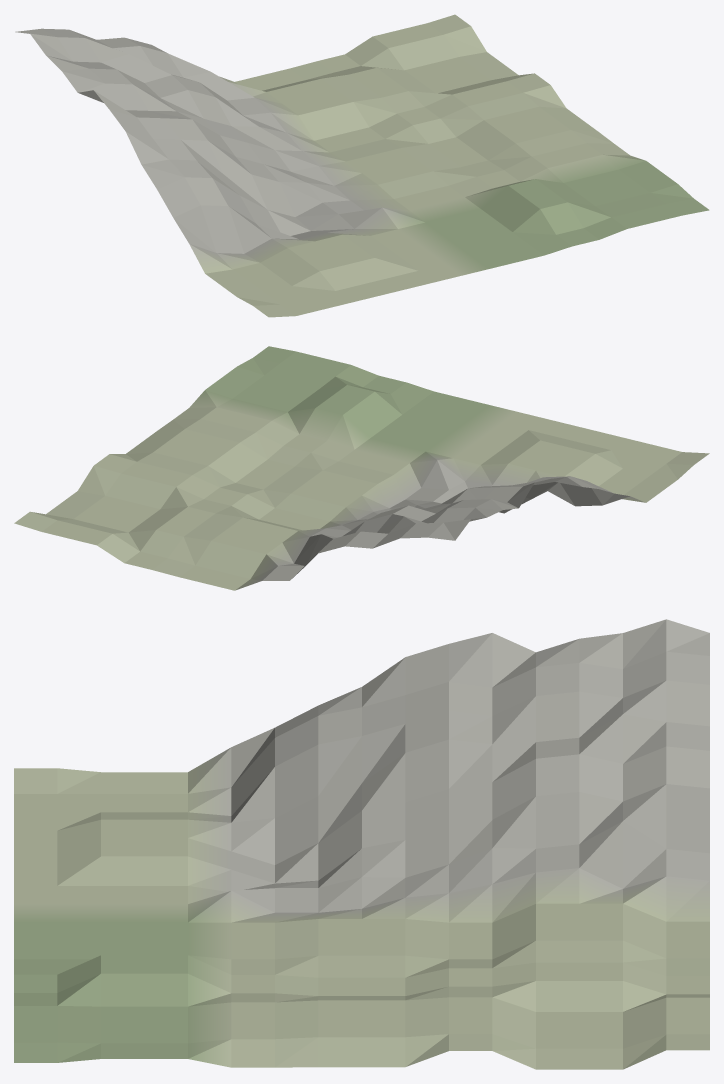
The picture shows the model from 3 angles, top to bottom: view 1: azimuth 30°, elevation 25°; view 2: azimuth 150°, elevation 25°; view 3: azimuth 270°, elevation 25°; orthographic projection. The views are drawn at different scales.
Size of the model in its own units: 32 by 8.74 by 32.
